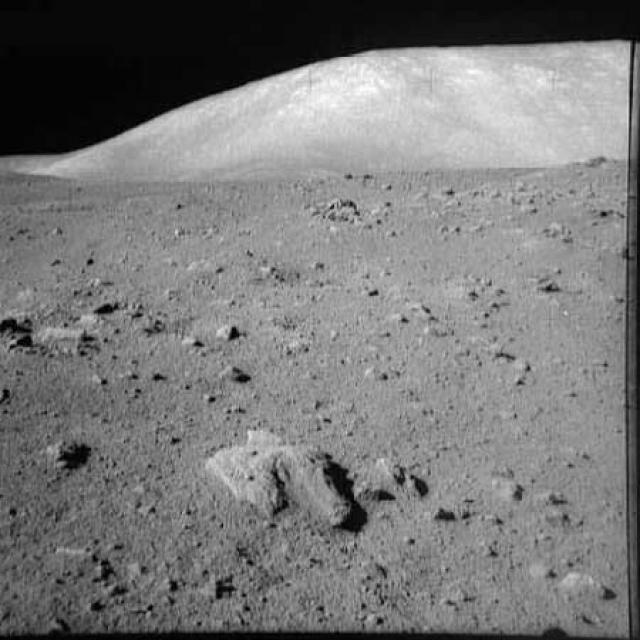rock: (208, 431, 354, 530), (362, 448, 422, 499), (317, 192, 374, 236), (555, 562, 613, 604), (41, 314, 88, 355), (483, 463, 523, 503), (37, 432, 75, 474), (205, 314, 251, 345), (180, 255, 233, 280), (272, 338, 319, 366), (1, 302, 34, 339)
